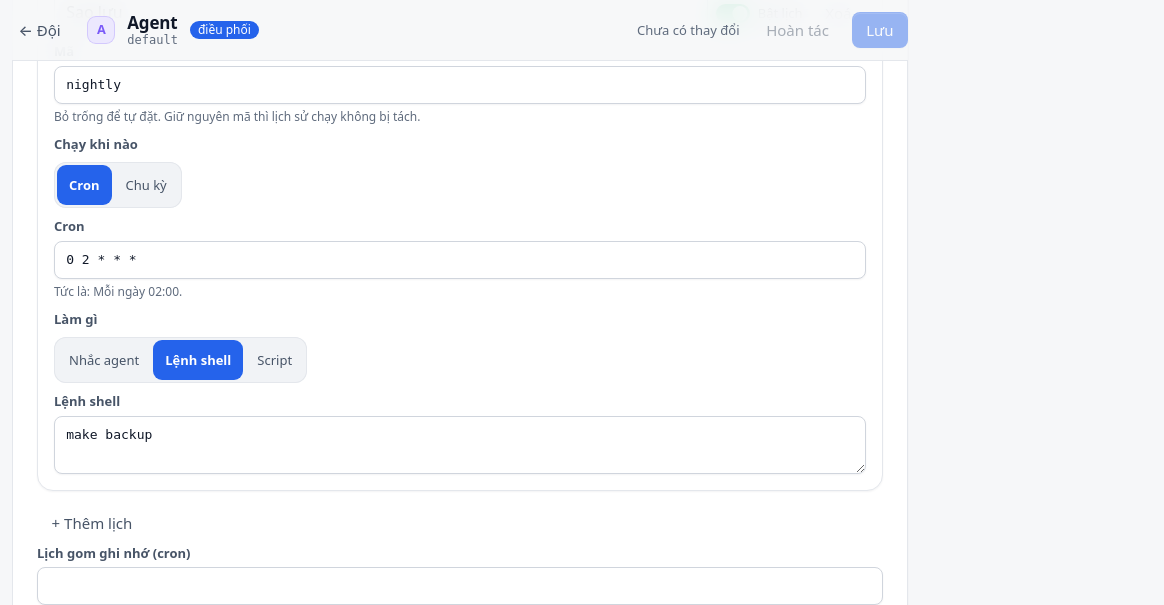
Test: the skills a command row lists in its file › leave nothing to save once the row went to a prompt, then a script and came back
(page scrolled)
expect the text "Chưa có thay đổi" is shown: met, box left=637, top=20, right=740, bottom=40
expect the button "Lưu" is disabled: met, box left=852, top=12, right=908, bottom=48
Step 1. Click the button "Nhắc agent" → (104, 360), box left=57, top=340, right=151, bottom=380
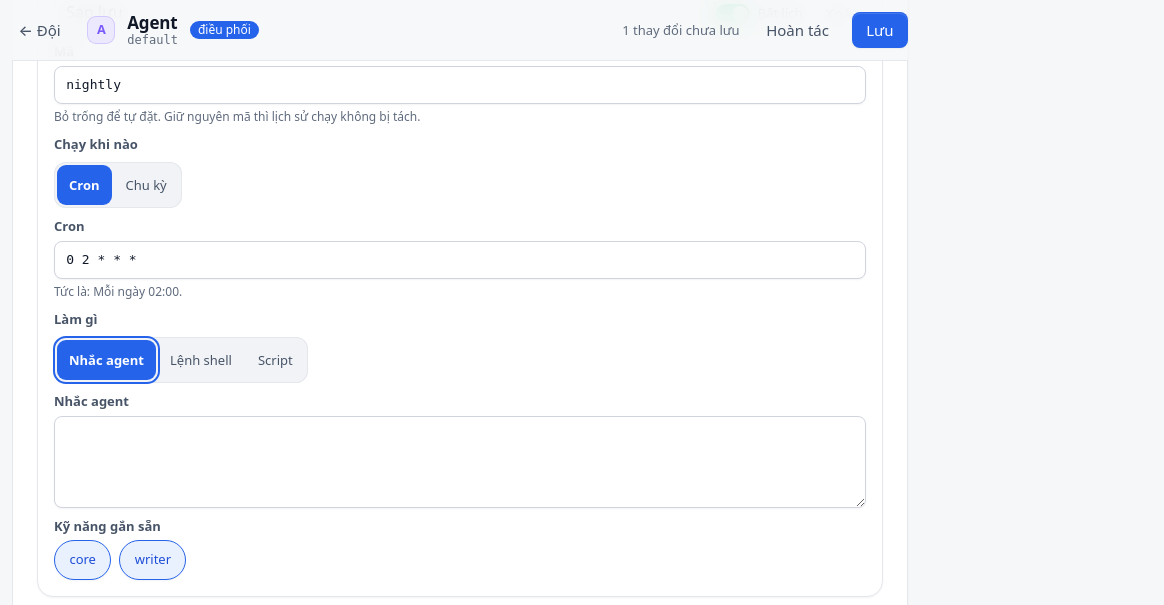
Step 2. Click the button "Script" → (275, 360), box left=246, top=340, right=305, bottom=380
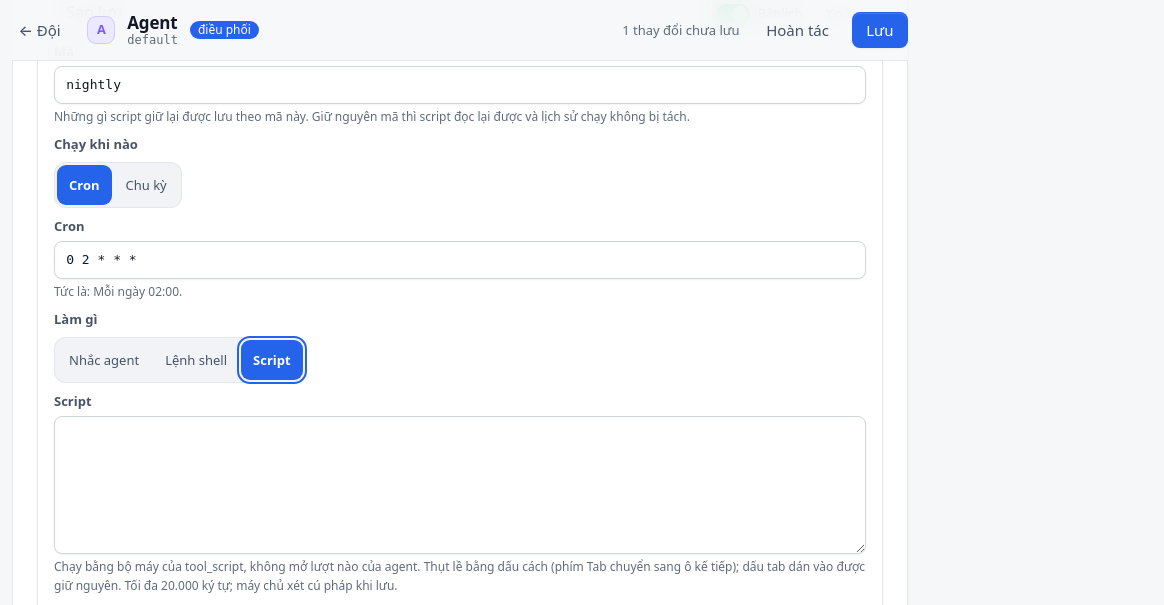
Step 3. Click the button "Lệnh shell" → (196, 360), box left=153, top=340, right=239, bottom=380
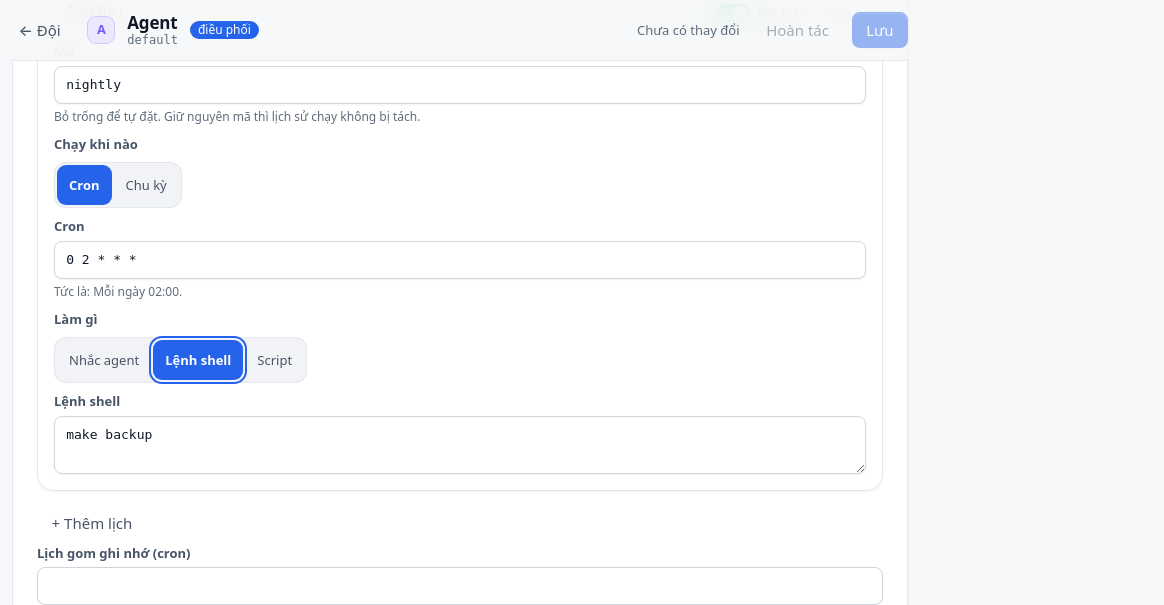
expect the text box labelled "Lệnh shell" holds "make backup": met, box left=54, top=416, right=866, bottom=474
expect the text "Chưa có thay đổi" is shown: met, box left=637, top=20, right=740, bottom=40
expect the button "Lưu" is disabled: met, box left=852, top=12, right=908, bottom=48
